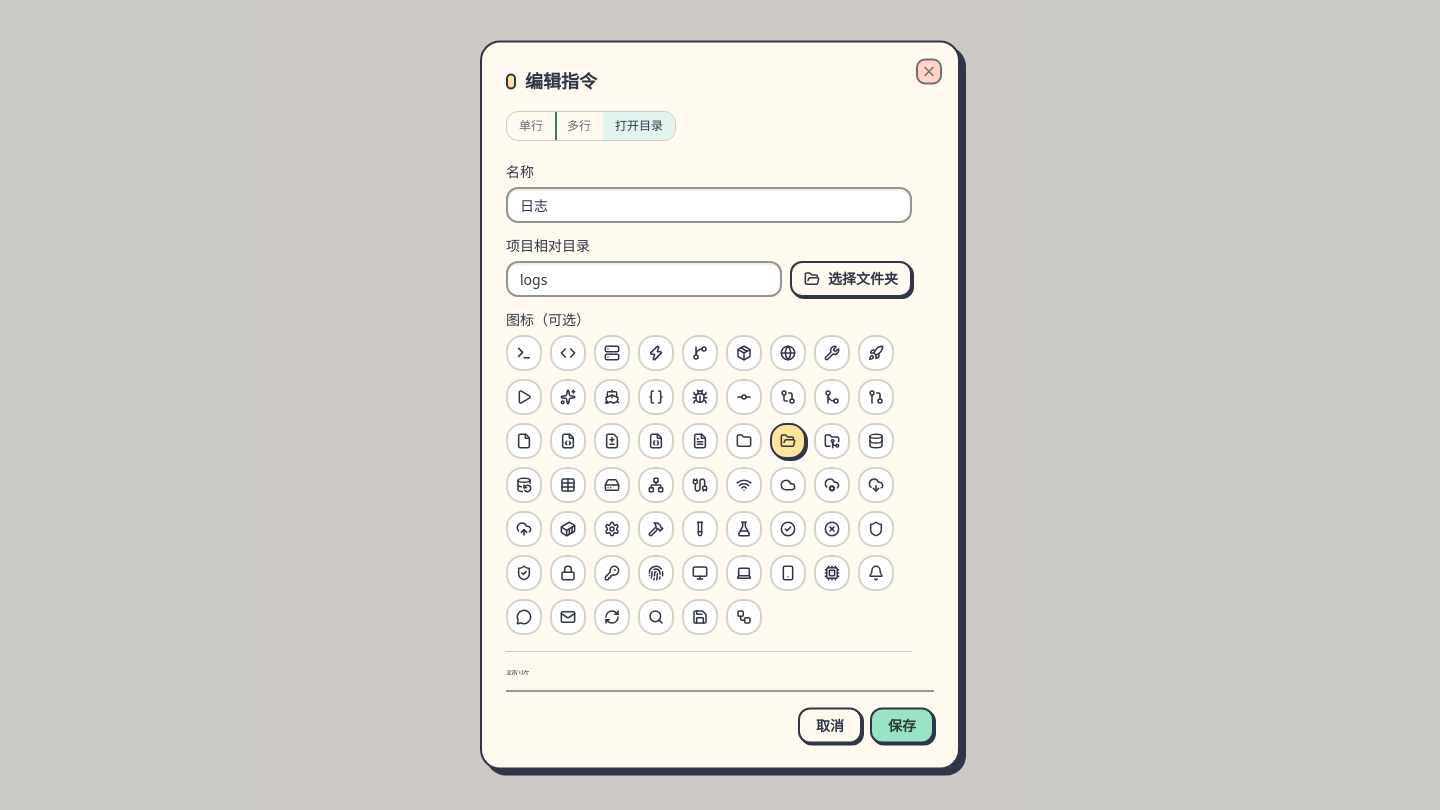
CommandDialog › 选择文件夹 › 选择失败时提示重试并保留原路径
This screenshot has width=1440, height=810.
Click the button "选择文件夹".
click(851, 278)  # box [790,260,912,296]
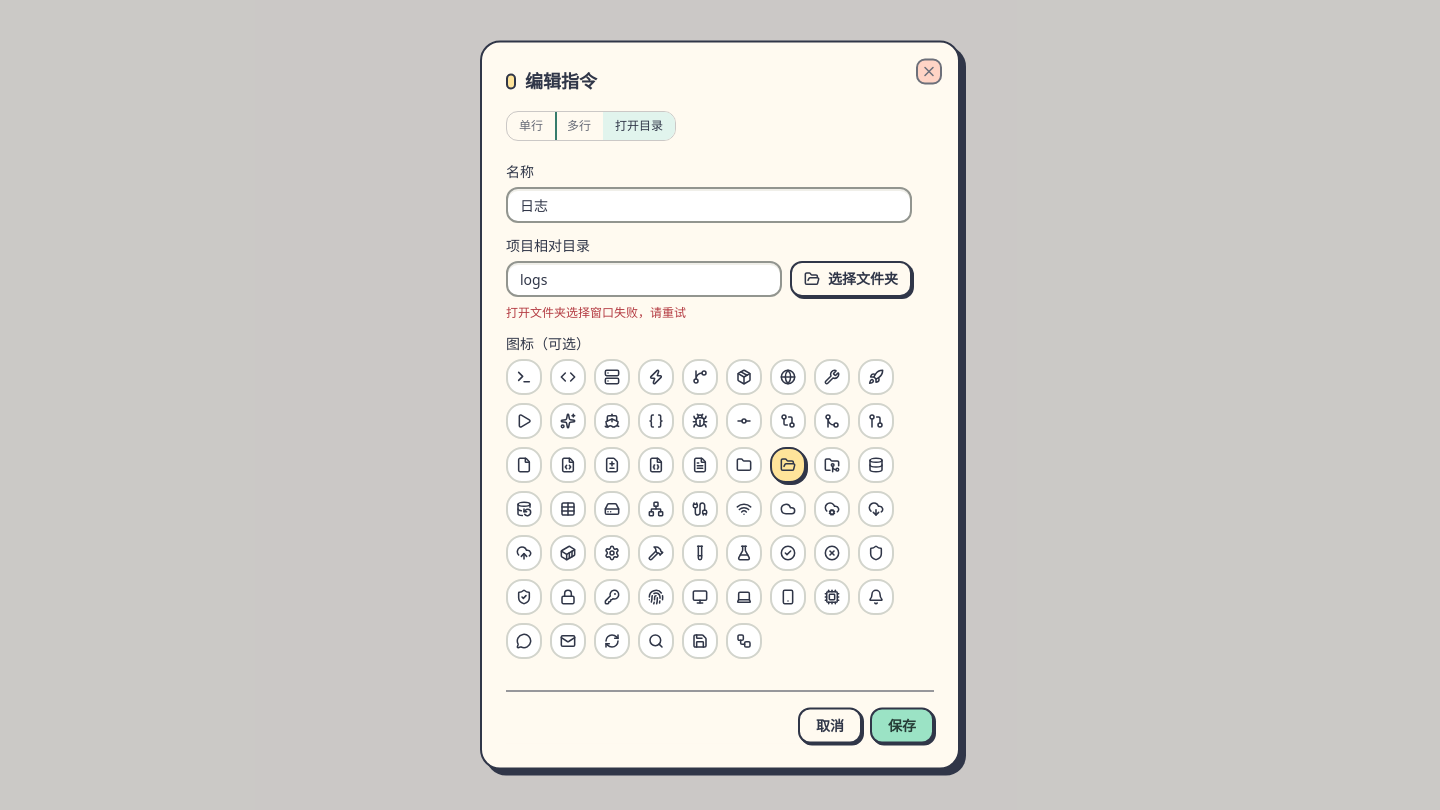
Check: the field labelled "项目相对目录" holds "logs", box [506,260,782,296]
Check: the message reads "打开文件夹选择窗口失败，请重试", box [506,304,686,320]
